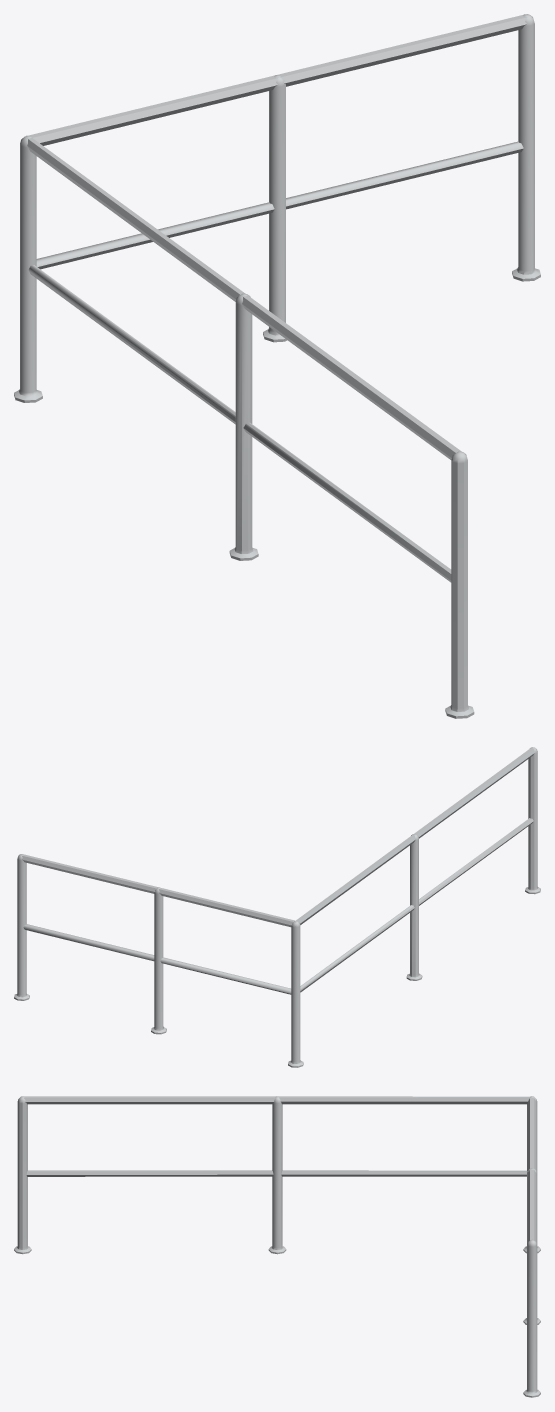
The model's file is gteki_street_guard_rail_l_3000x2000_stainless.glb.
3 views of the same model, one above another, from view 1: azimuth 30°, elevation 25°; view 2: azimuth 150°, elevation 25°; view 3: azimuth 270°, elevation 25° (orthographic). The views are drawn at different scales.
Visible parts, largest first — view 1: VIS_body; view 2: VIS_body; view 3: VIS_body.
Boxes of the visible parts, x1=… form: VIS_body: x1=14, y1=14, x2=540, y2=718; VIS_body: x1=14, y1=747, x2=540, y2=1067; VIS_body: x1=14, y1=1096, x2=540, y2=1397.
Size of what is drawn, in the model's own units: 2.1 by 1 by 3.1.
1 material, 1 textured.
